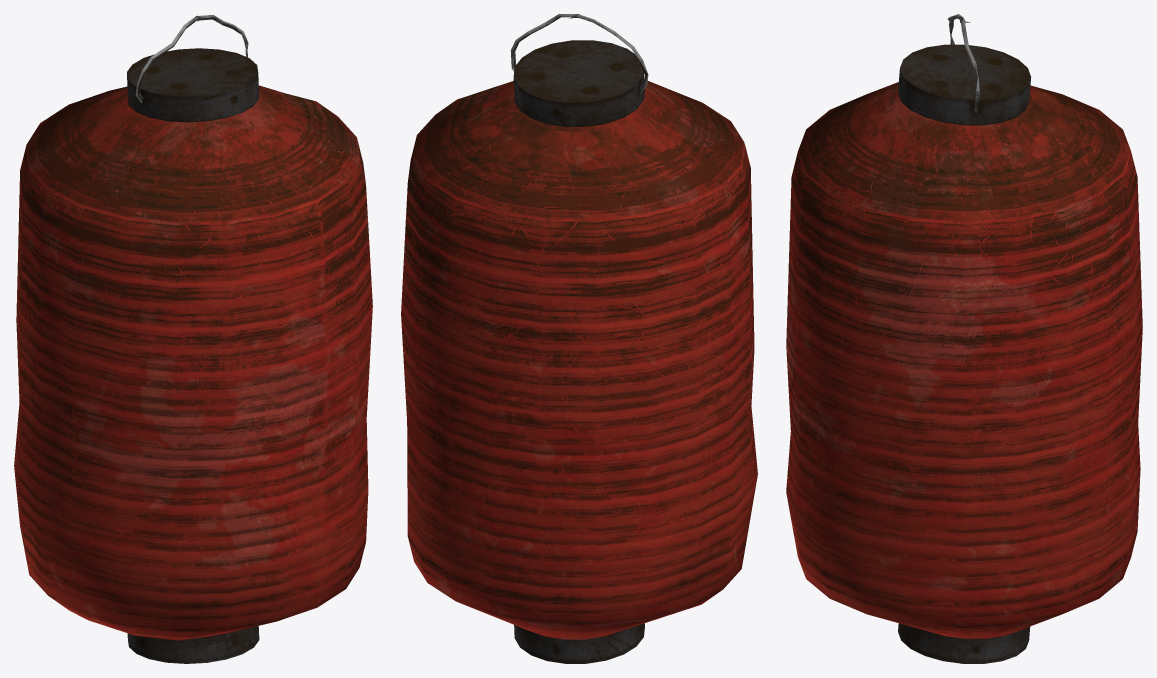
The model's file is Lantern_A.fbx.
3 renders of one model, left to right at view 1: azimuth 30°, elevation 25°; view 2: azimuth 150°, elevation 25°; view 3: azimuth 270°, elevation 25°, orthographic.
Parts seen in each view (by area): view 1: Lantern_A; view 2: Lantern_A; view 3: Lantern_A.
Part boxes in pixels (<box>): Lantern_A: <box>14,15,372,663</box>; Lantern_A: <box>401,14,757,663</box>; Lantern_A: <box>786,14,1142,663</box>.
Bounding box in the file's own units: 46.76 × 89.47 × 46.31.
1 material, 1 textured.
